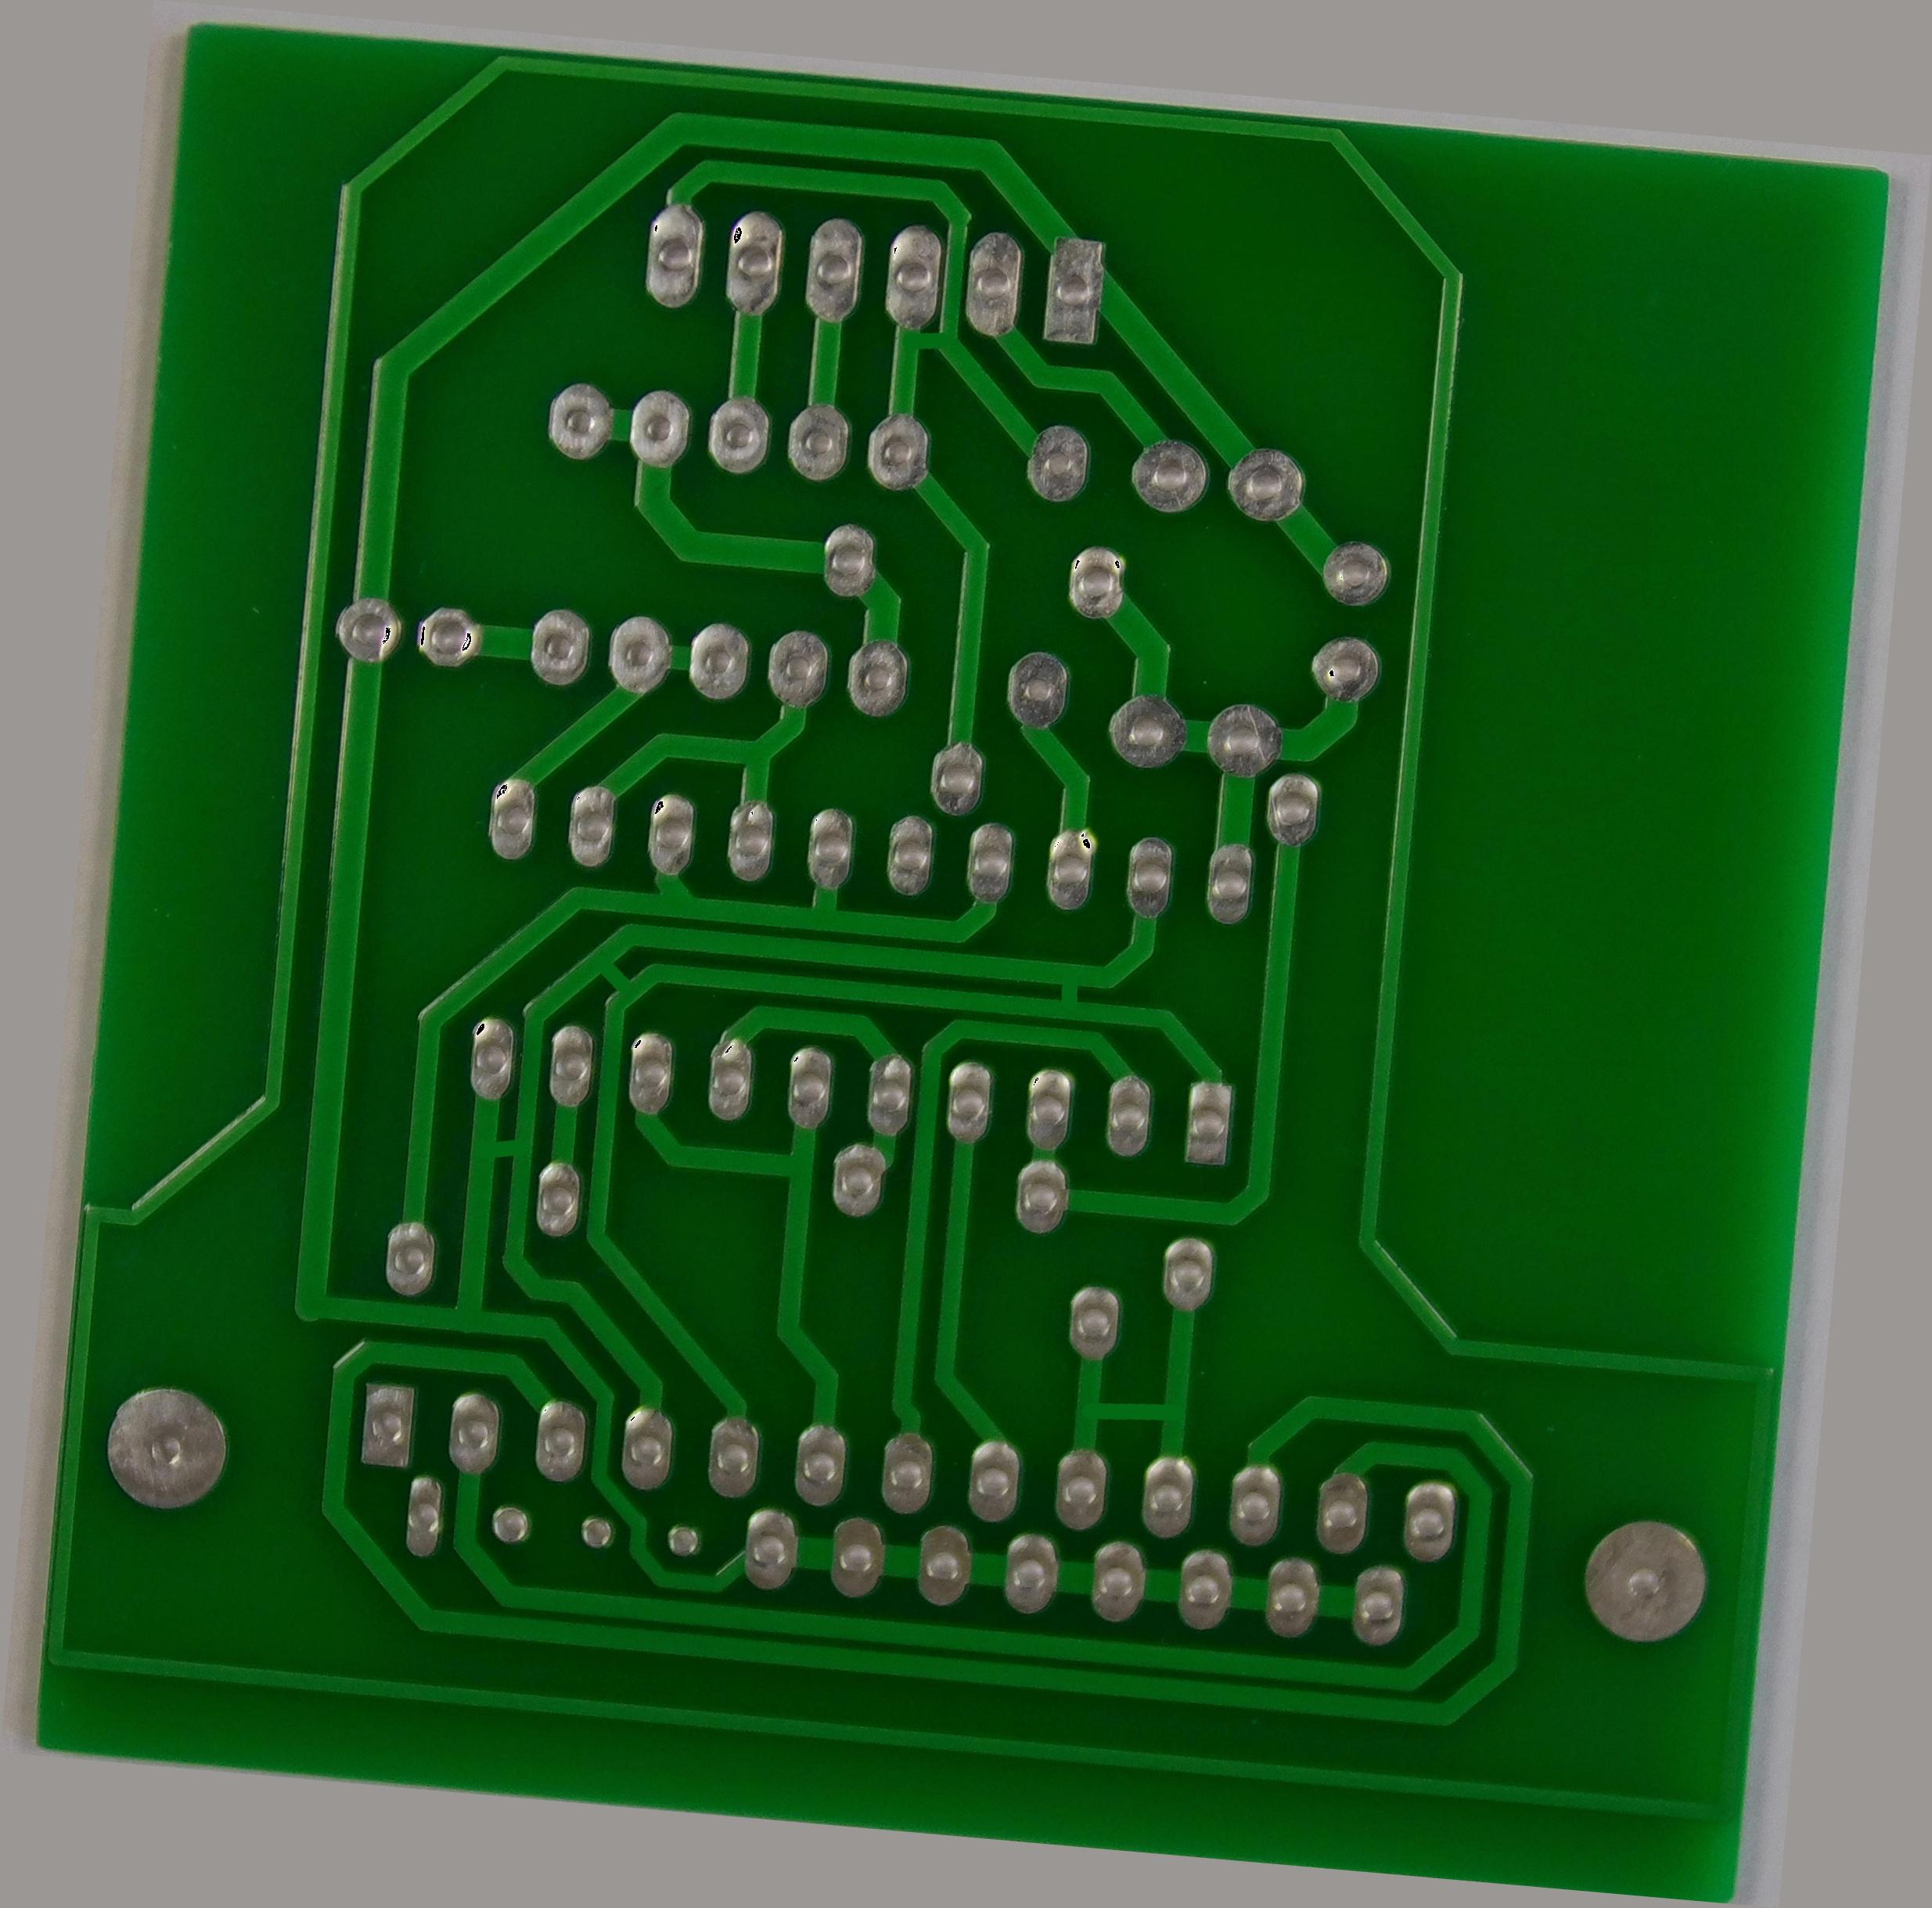short: (1059, 1366, 1209, 1447), (566, 940, 650, 1015), (1027, 947, 1106, 1019), (880, 309, 969, 362), (458, 1123, 542, 1171)
